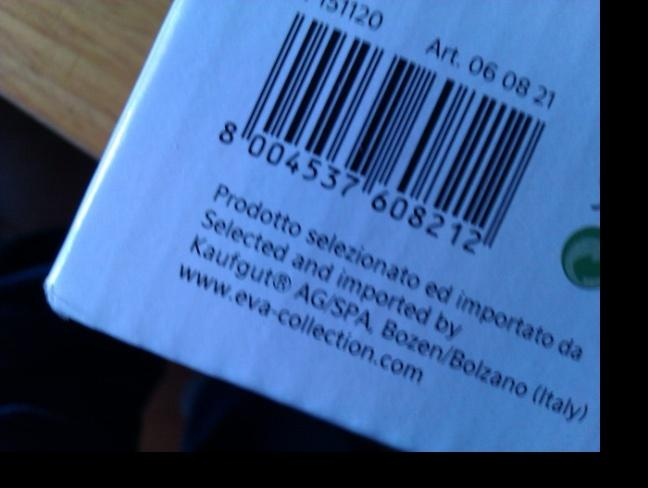Barcode: (211, 7, 547, 263)
